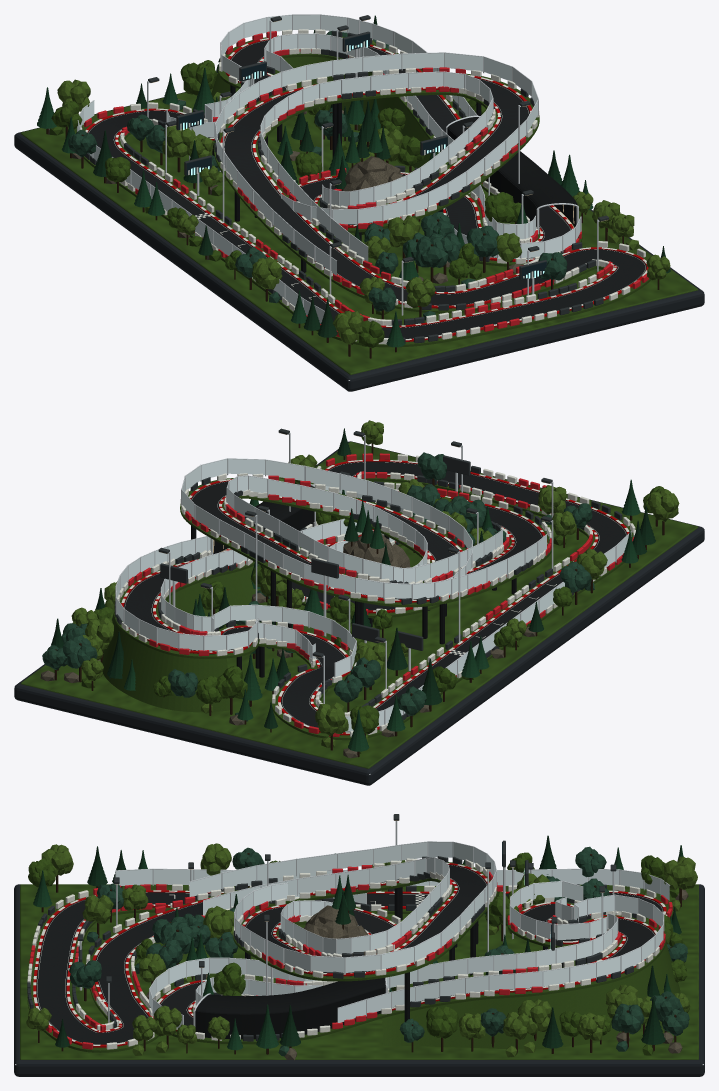
The model's file is Alpine_Circuit_Diorama.fbx.
3 renders of one model, top to bottom at view 1: azimuth 30°, elevation 25°; view 2: azimuth 150°, elevation 25°; view 3: azimuth 270°, elevation 25°, orthographic. The views are drawn at different scales.
Parts seen in each view (by area): view 1: Continuous drivable asphalt deck, Inset landscape tray, Black rectangular display plinth, Trimmed grass verge 1, Trimmed grass verge -1, Alternating red white raised kerb 1, Alternating red white raised kerb -1, Upper sector sculpted grass embankment -1, Alpine tree 021, Tunnel wall cap, Alpine tree 008, Alpine tree 029 (+19 smaller); view 2: Inset landscape tray, Continuous drivable asphalt deck, Black rectangular display plinth, Upper sector sculpted grass embankment 1, Trimmed grass verge -1, Trimmed grass verge 1, Alternating red white raised kerb -1, Alternating red white raised kerb 1, Upper sector sculpted grass embankment -1, Alpine tree 085, Alpine tree 053, Alpine tree 051 (+15 smaller); view 3: Inset landscape tray, Continuous drivable asphalt deck, Black rectangular display plinth, Upper sector sculpted grass embankment 1, Trimmed grass verge 1, Tunnel wall cap.001, Alternating red white raised kerb 1, Trimmed grass verge -1, Alternating red white raised kerb -1, Alpine tree 085, Alpine tree 035, Alpine tree 058 (+54 smaller).
Part boxes in pixels (x1=…): Continuous drivable asphalt deck: x1=88, y1=40, x2=646, y2=341; Inset landscape tray: x1=20, y1=88, x2=698, y2=374; Black rectangular display plinth: x1=14, y1=92, x2=704, y2=391; Trimmed grass verge 1: x1=82, y1=35, x2=651, y2=347; Trimmed grass verge -1: x1=118, y1=52, x2=610, y2=325; Alternating red white raised kerb 1: x1=85, y1=37, x2=648, y2=341; Alternating red white raised kerb -1: x1=115, y1=49, x2=617, y2=327; Upper sector sculpted grass embankment -1: x1=275, y1=56, x2=439, y2=171; Alpine tree 021: x1=415, y1=237, x2=448, y2=282; Tunnel wall cap: x1=447, y1=127, x2=539, y2=232; Alpine tree 008: x1=466, y1=225, x2=499, y2=272; Alpine tree 029: x1=162, y1=125, x2=195, y2=172; Inset landscape tray: x1=20, y1=441, x2=698, y2=768; Continuous drivable asphalt deck: x1=123, y1=461, x2=627, y2=735; Black rectangular display plinth: x1=14, y1=441, x2=704, y2=785; Upper sector sculpted grass embankment 1: x1=102, y1=601, x2=229, y2=712; Trimmed grass verge -1: x1=156, y1=476, x2=595, y2=707; Trimmed grass verge 1: x1=114, y1=458, x2=633, y2=740; Alternating red white raised kerb -1: x1=153, y1=473, x2=598, y2=710; Alternating red white raised kerb 1: x1=121, y1=459, x2=629, y2=735; Upper sector sculpted grass embankment -1: x1=167, y1=566, x2=260, y2=616; Alpine tree 085: x1=315, y1=702, x2=348, y2=750; Alpine tree 053: x1=215, y1=665, x2=247, y2=714; Alpine tree 051: x1=62, y1=635, x2=97, y2=682; Inset landscape tray: x1=20, y1=884, x2=698, y2=1059; Continuous drivable asphalt deck: x1=36, y1=865, x2=663, y2=1047; Black rectangular display plinth: x1=14, y1=884, x2=704, y2=1076; Upper sector sculpted grass embankment 1: x1=382, y1=943, x2=680, y2=1049; Trimmed grass verge 1: x1=27, y1=878, x2=672, y2=1052; Tunnel wall cap.001: x1=195, y1=987, x2=385, y2=1039; Alternating red white raised kerb 1: x1=33, y1=878, x2=666, y2=1047; Trimmed grass verge -1: x1=69, y1=862, x2=622, y2=1028; Alternating red white raised kerb -1: x1=66, y1=862, x2=626, y2=1032; Alpine tree 085: x1=663, y1=856, x2=697, y2=906; Alpine tree 035: x1=426, y1=1006, x2=458, y2=1051; Alpine tree 058: x1=517, y1=999, x2=551, y2=1040.
Size of the model in its own units: 267 by 102 by 435.
20 materials, 12 textured.
